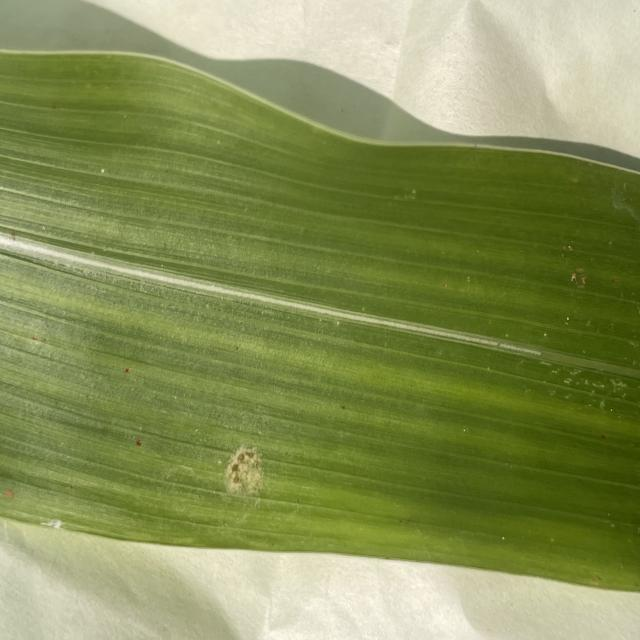millet_healthy: (0, 48, 640, 595)
